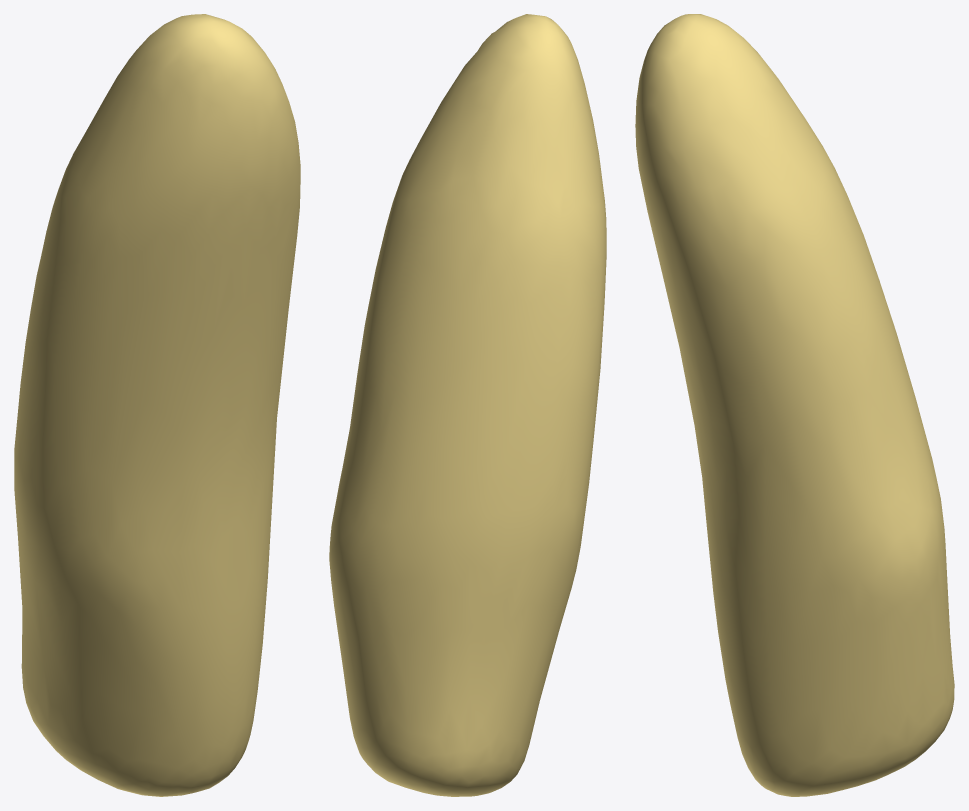
Rendered from fma73565_mm3596.glb.
The picture shows the model from 3 angles, left to right: view 1: azimuth 30°, elevation 25°; view 2: azimuth 150°, elevation 25°; view 3: azimuth 270°, elevation 25°; orthographic projection. The views are drawn at different scales.
Visible parts, largest first — view 1: FMA73565_MM3596; view 2: FMA73565_MM3596; view 3: FMA73565_MM3596.
Boxes of the visible parts, bbox=[...] form: FMA73565_MM3596: bbox=[14, 14, 300, 796]; FMA73565_MM3596: bbox=[329, 14, 606, 796]; FMA73565_MM3596: bbox=[635, 14, 954, 796].
Bounding box in the file's own units: 0.0036 × 0.0116 × 0.00443.
